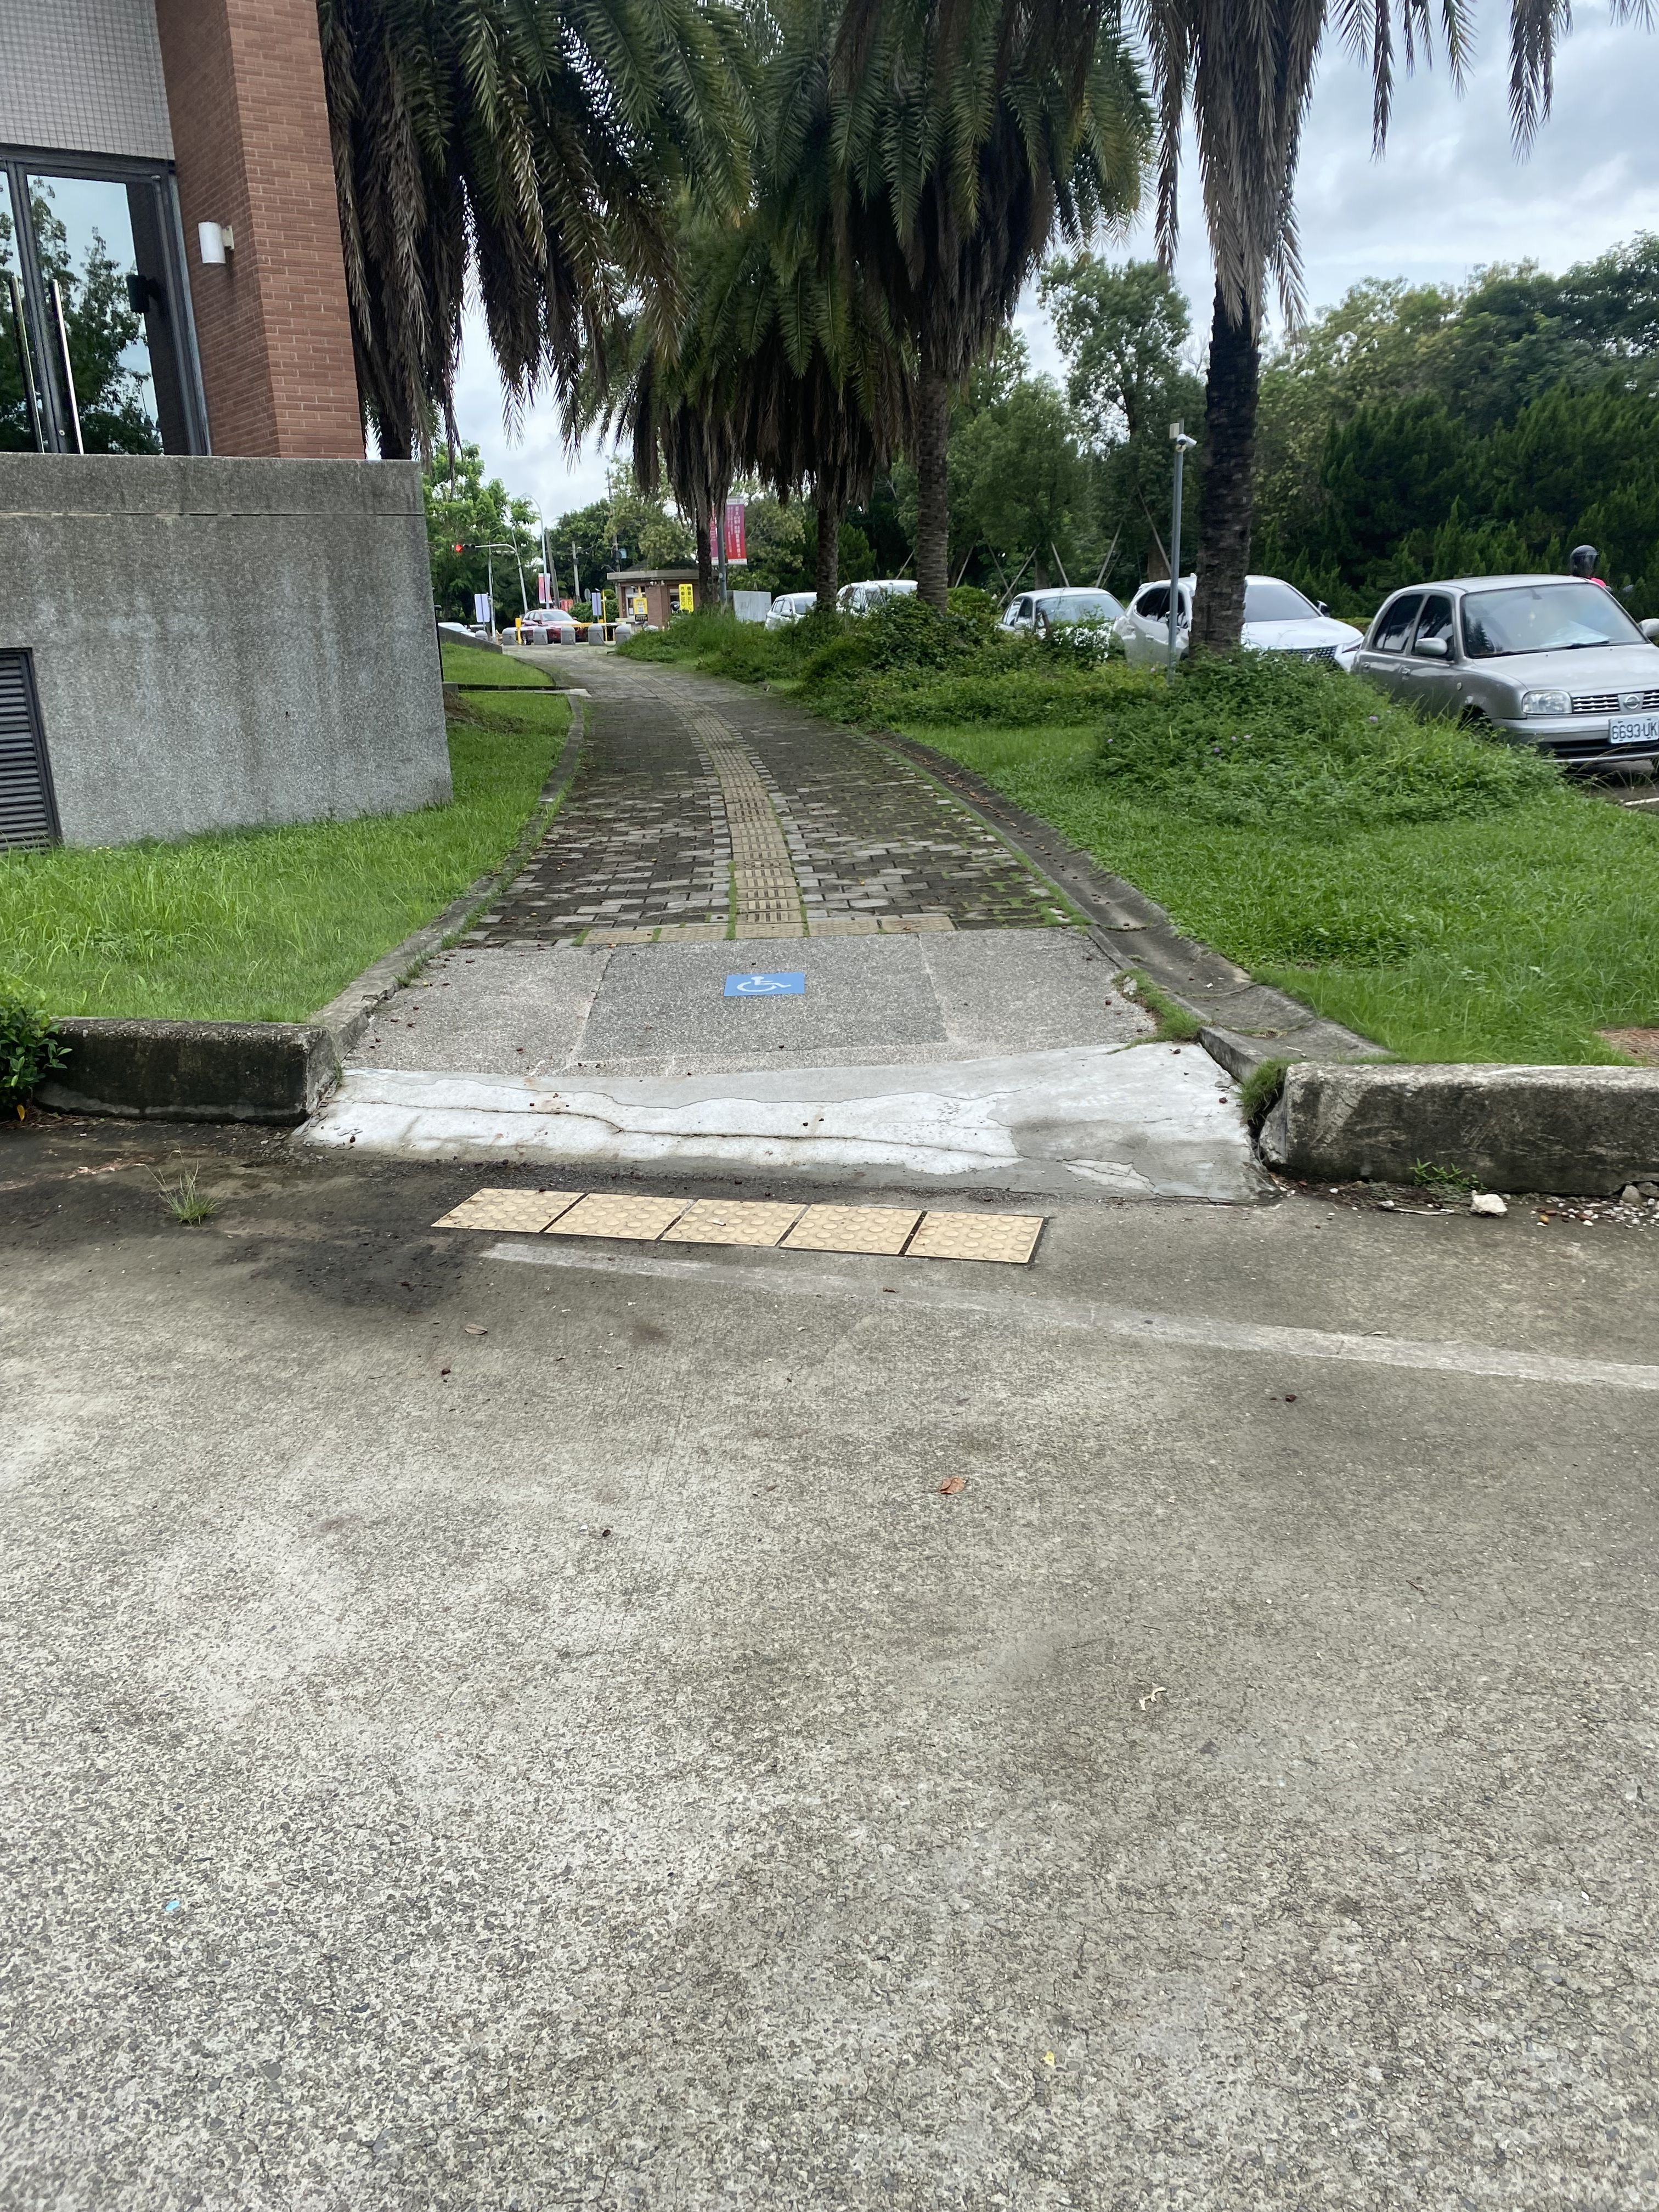sidewalk: (295, 634, 1265, 1315)
